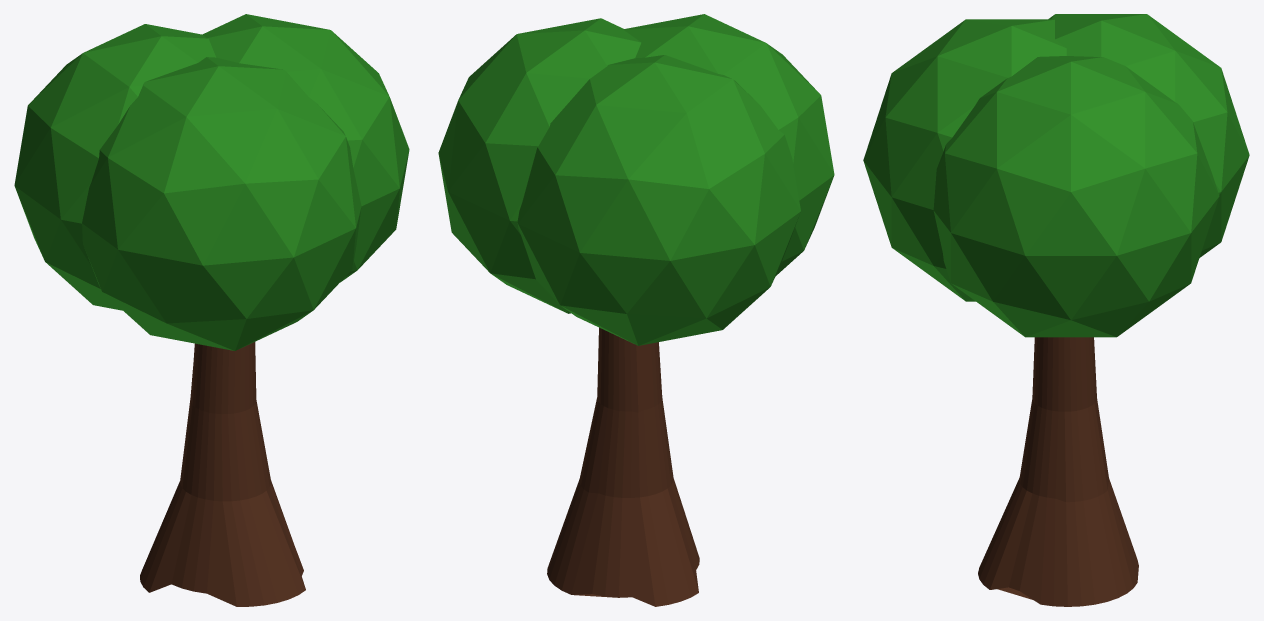
File: tree.glb
3 renders of one model, left to right at view 1: azimuth 30°, elevation 25°; view 2: azimuth 150°, elevation 25°; view 3: azimuth 270°, elevation 25°, orthographic.
Parts seen in each view (by area): view 1: Tree; view 2: Tree; view 3: Tree.
Part boxes in pixels (bbox=[...]): Tree: bbox=[14, 14, 409, 606]; Tree: bbox=[438, 14, 834, 606]; Tree: bbox=[863, 14, 1249, 606].
Bounding box in the file's own units: 15.3 × 23.62 × 15.57.
